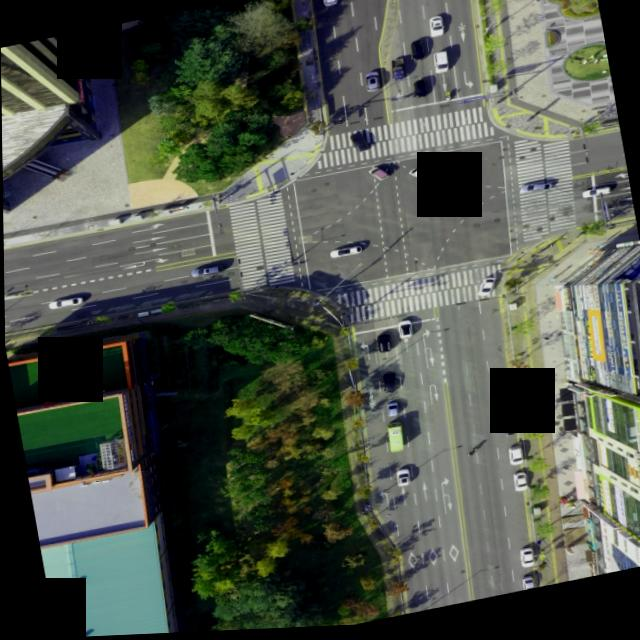car: (347, 131, 374, 156), (47, 296, 84, 311), (328, 247, 363, 262), (518, 184, 553, 198), (189, 264, 223, 278), (431, 191, 457, 208), (366, 164, 390, 182), (476, 280, 496, 301), (505, 447, 524, 469), (431, 53, 449, 76), (426, 19, 444, 41), (510, 474, 528, 496), (580, 191, 610, 203), (517, 551, 534, 572), (378, 375, 394, 397), (414, 81, 430, 102), (411, 43, 426, 65), (363, 75, 379, 95), (396, 321, 411, 342), (517, 577, 533, 596), (376, 335, 391, 355), (393, 469, 408, 488), (382, 403, 397, 420), (502, 423, 516, 440), (321, 0, 338, 7)
small_bus: (383, 424, 402, 456)
small_truck: (406, 166, 441, 192), (497, 394, 515, 419), (388, 60, 405, 84)
